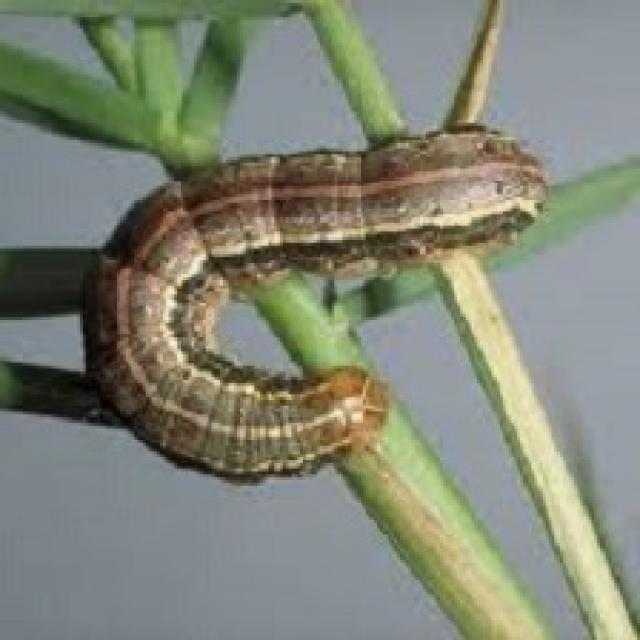worm: (58, 97, 565, 490)
